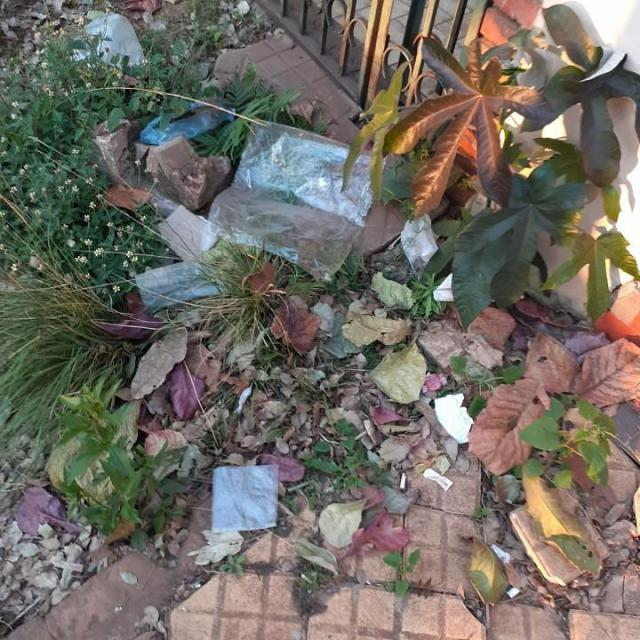litter: (204, 114, 403, 288), (129, 247, 253, 319), (205, 459, 293, 538), (145, 135, 234, 212), (142, 91, 242, 148), (80, 114, 141, 186), (406, 208, 448, 281), (395, 470, 415, 493)
